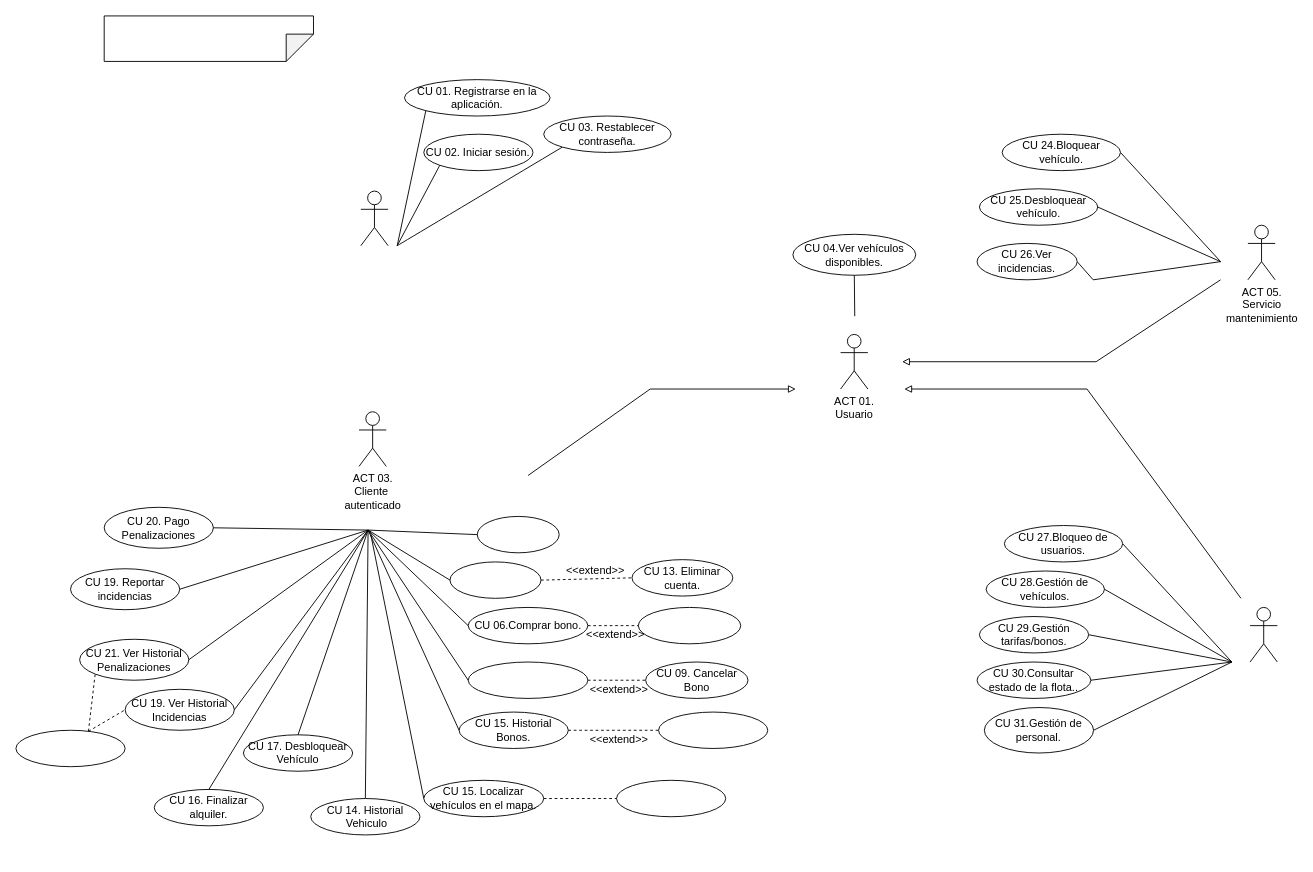
Some shapes in this 1313 by 872 pixel diagram are drawn without their labels. Each missing label, with the centre of its shape:
ACT 02. Cliente no autenticado: point (374, 218)
ACT 04. Administrador: point (1263, 634)
CU 05. Reservar Vehiculo: point (671, 798)
CU 07. Métodos de pago: point (689, 625)
CU 08.Ver Bono.: point (527, 679)
CU 10.Editar perfil.: point (495, 579)
CU 12. Cerrar Sesión.: point (517, 534)
CU 16. Ver más información.: point (70, 748)
CU 26. Extender bono.: point (713, 729)
Diagrama de Casos de Uso Completo (Fino): point (208, 38)
